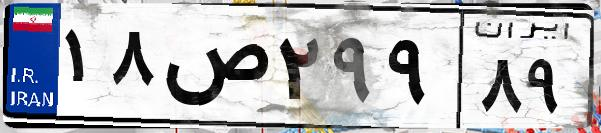1: (57, 26, 110, 100)
2: (270, 28, 330, 110)
8: (475, 38, 525, 113), (110, 28, 158, 98)
9: (385, 28, 445, 110), (330, 28, 385, 110), (525, 38, 570, 115)
ص: (158, 20, 270, 120)
